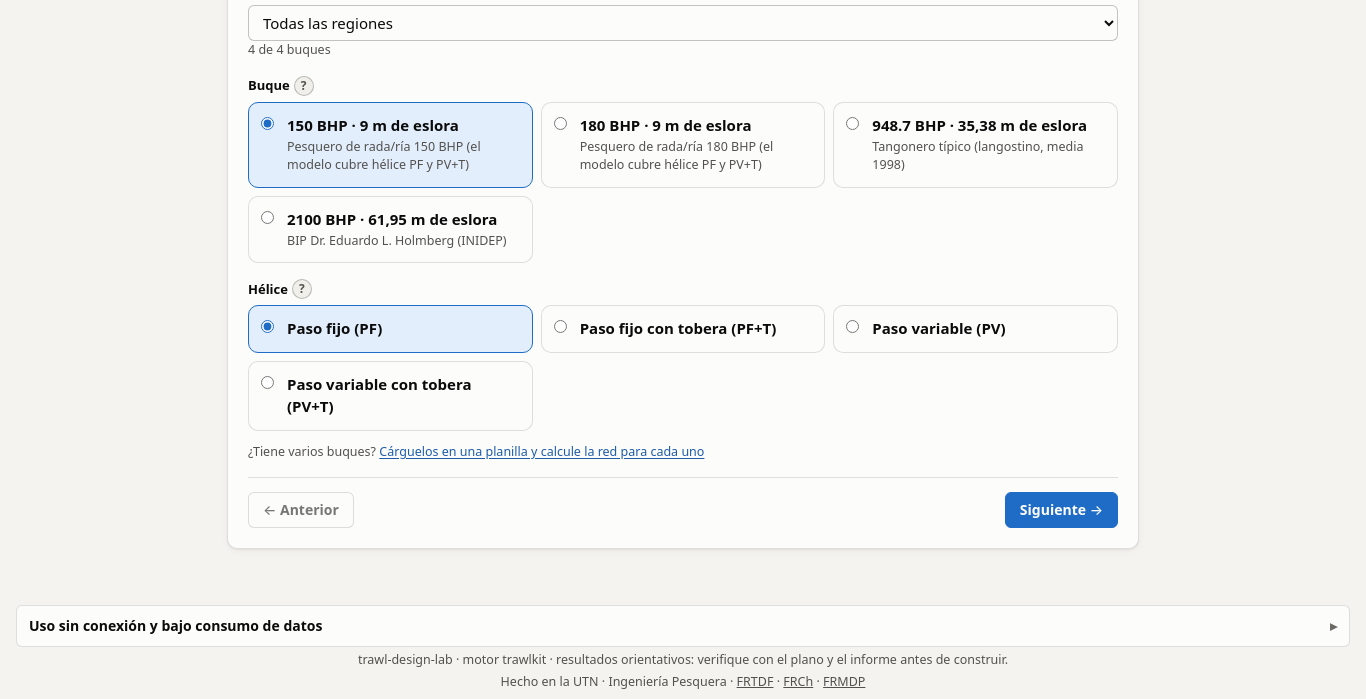
Scenario: modo guiado › ofrece bajar a la velocidad máxima viable cuando no se alcanza
The image size is (1366, 699).
(page scrolled)
Expected: the radio button labelled "150 BHP" is shown, [261, 117, 274, 130]
Click the button "Siguiente →". click: (1061, 510)
box: [1005, 492, 1118, 528]
(page scrolled)
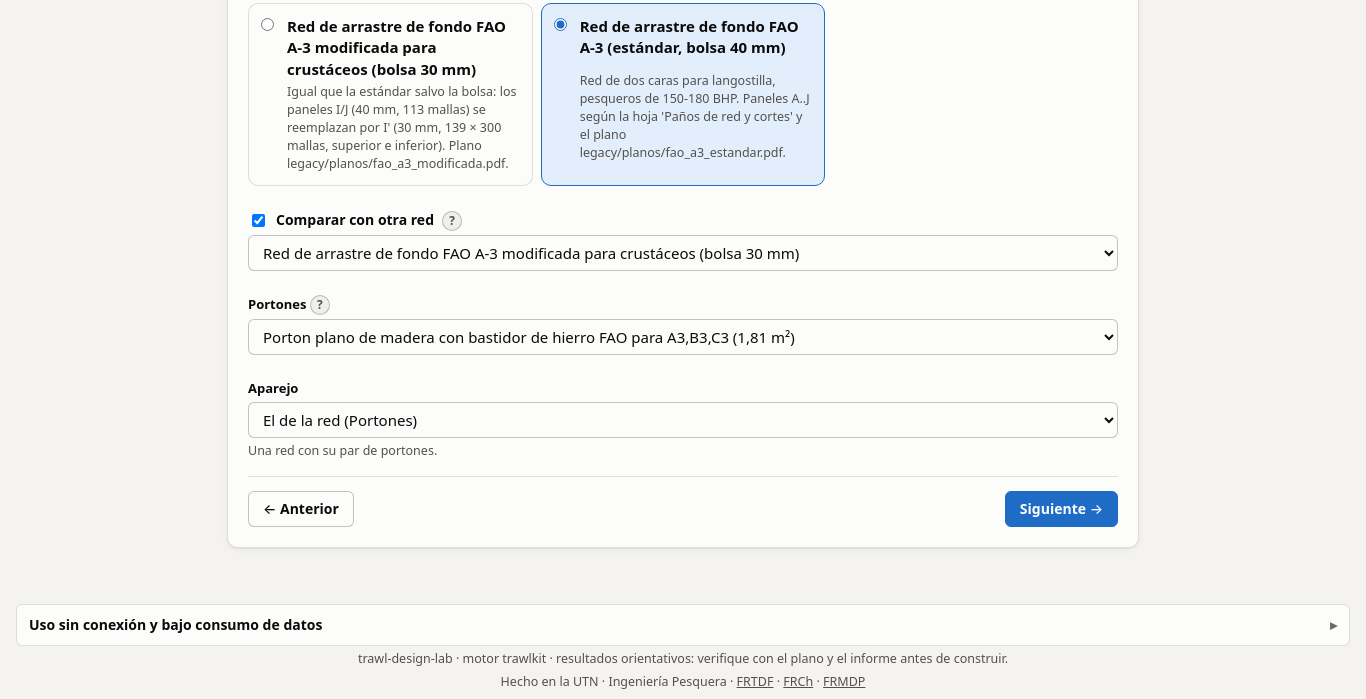
Click the button "Siguiente →". click: (1061, 509)
box: [1005, 491, 1118, 527]
(page scrolled)
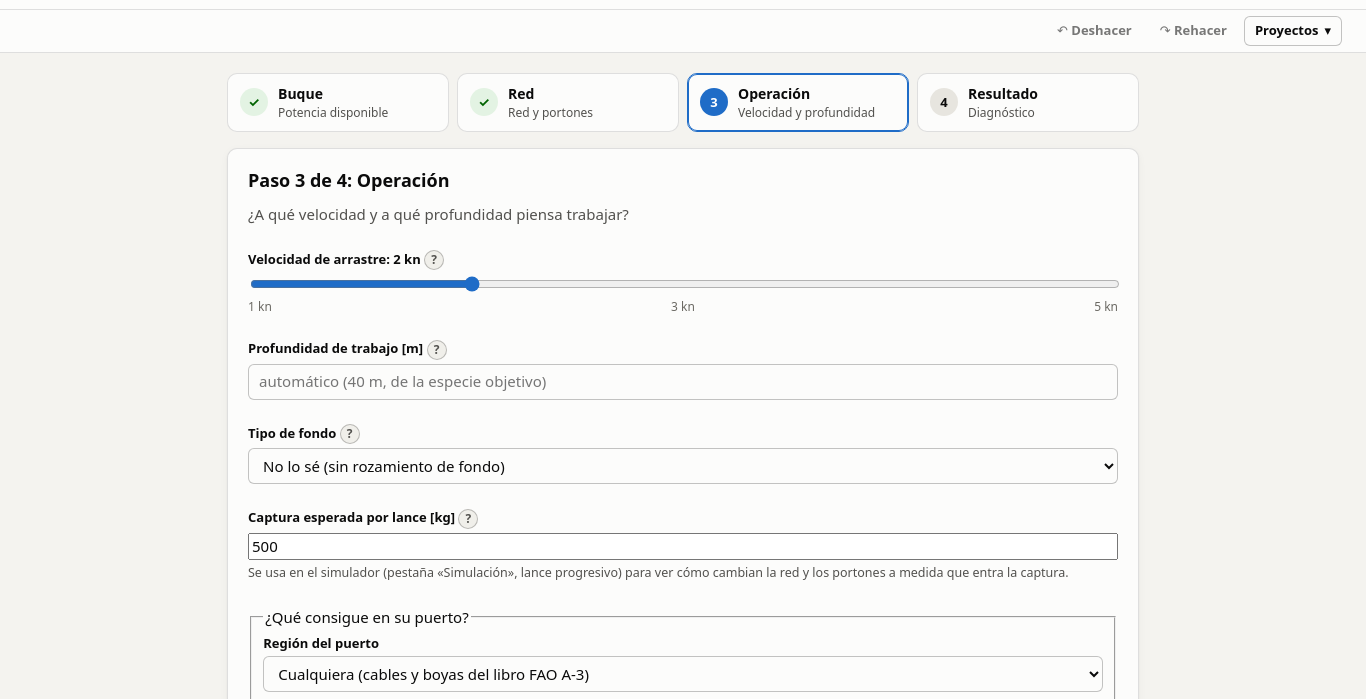
Set the slider to "3". click: (685, 284)
box: [250, 276, 1120, 292]
(page scrolled)
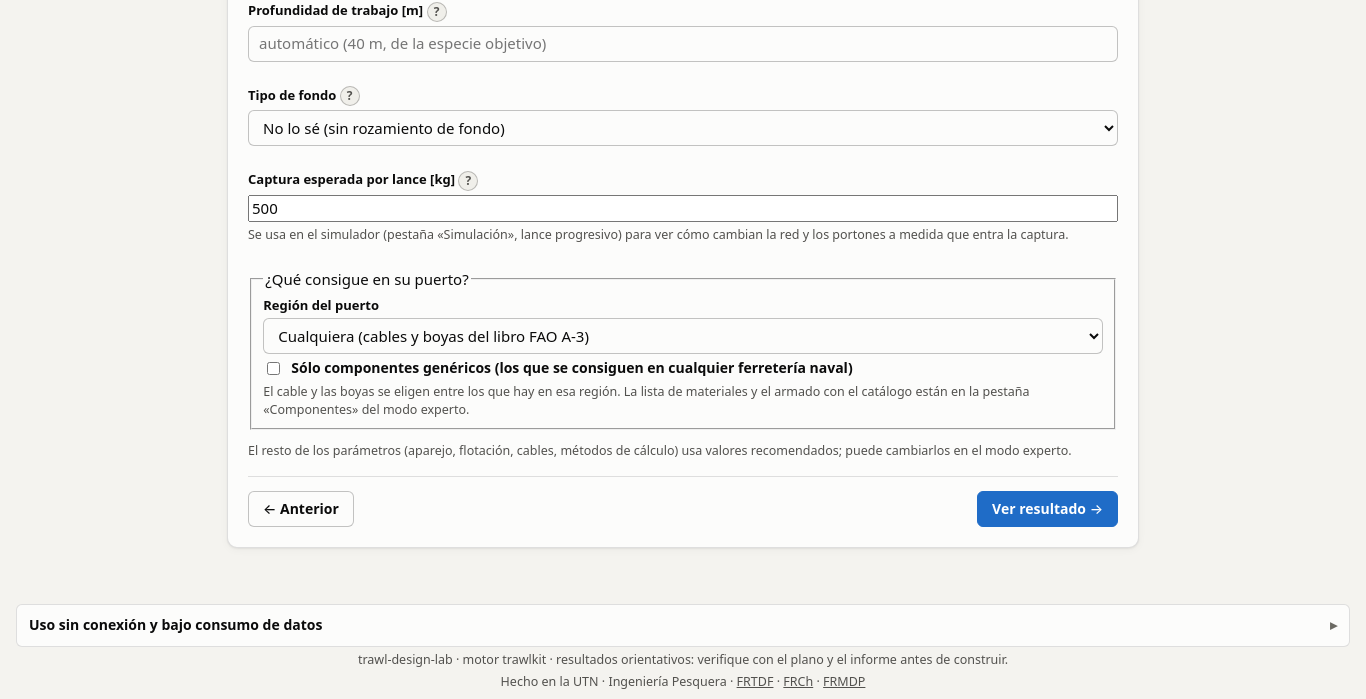
Click the button "Ver resultado →". click: (1048, 510)
box: [977, 492, 1118, 528]
(page scrolled)
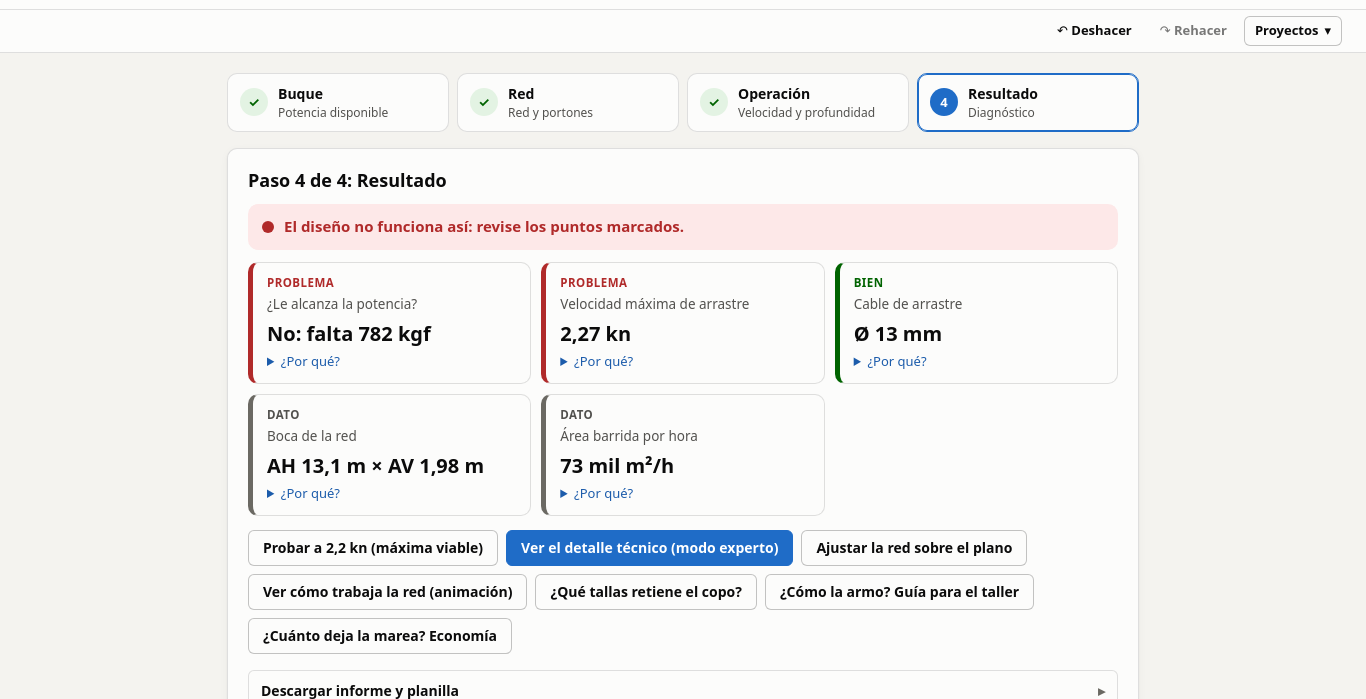
Click the button "Probar a 2,2 kn (máxima viable)". click: (373, 548)
box: [248, 530, 498, 566]
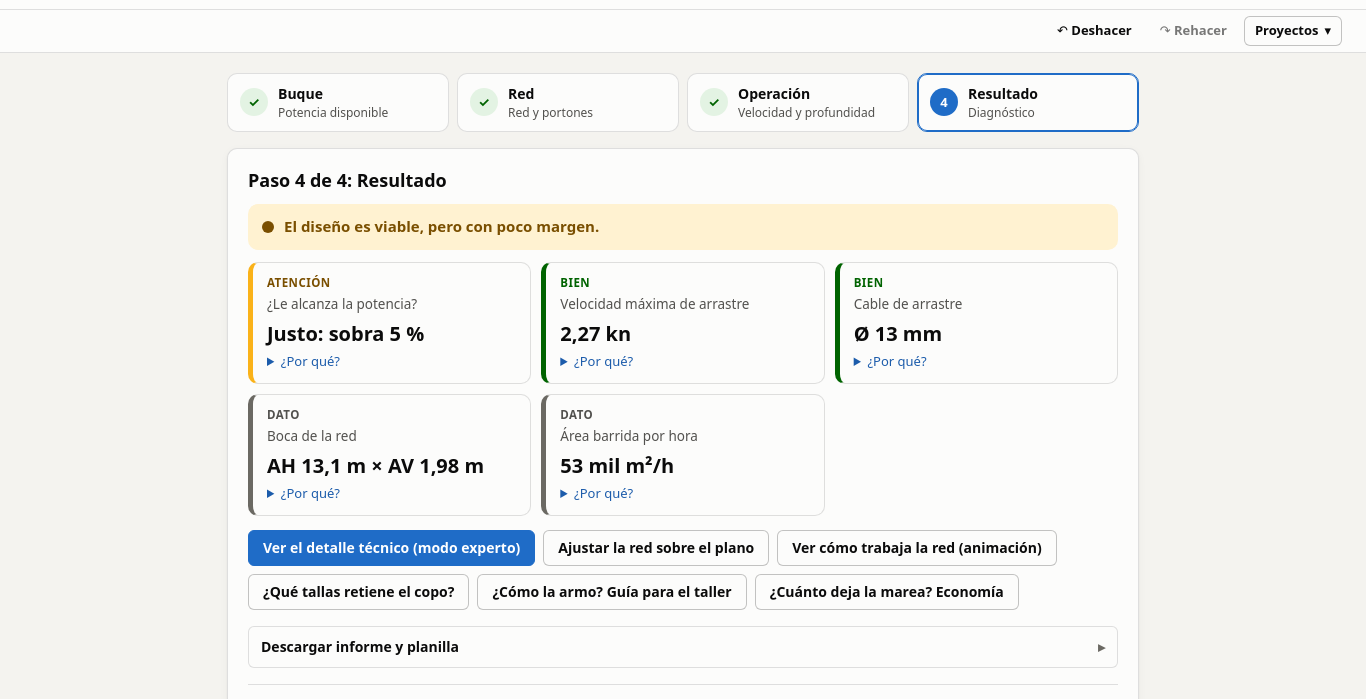
Now the text "El diseño es viable, pero con poco margen." is shown, box [248, 204, 1118, 250]
